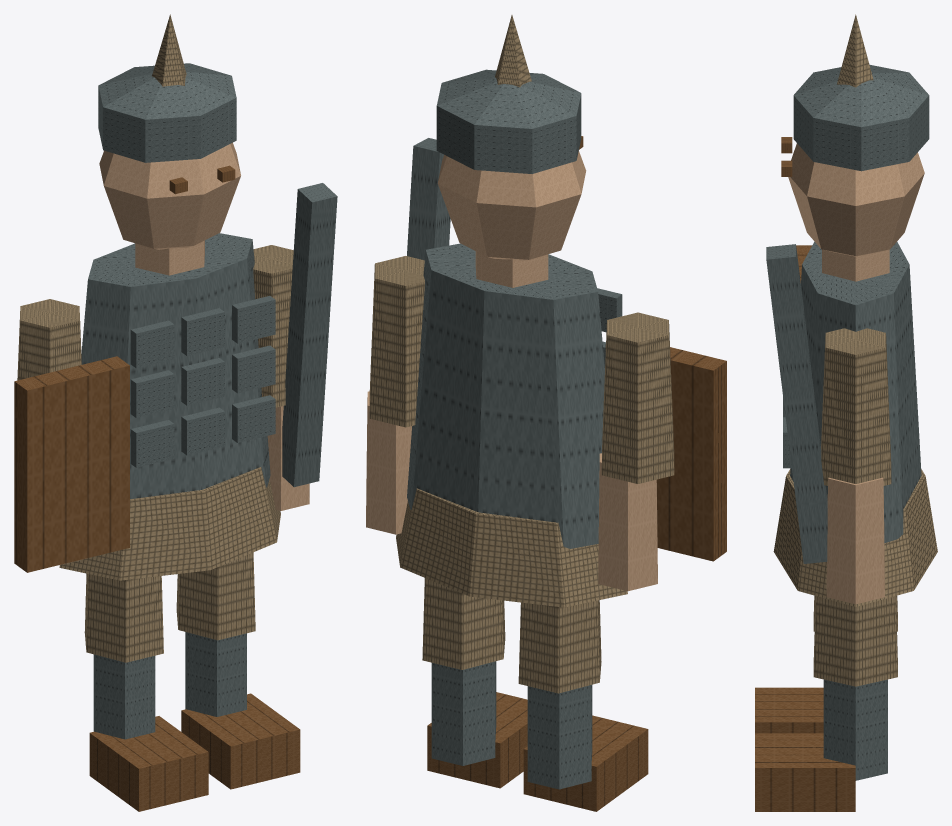
File: unit-SWORD-lod0.glb
The picture shows the model from 3 angles, left to right: view 1: azimuth 30°, elevation 25°; view 2: azimuth 150°, elevation 25°; view 3: azimuth 270°, elevation 25°; orthographic projection. The views are drawn at different scales.
Bounding box in the file's own units: 0.198 × 0.448 × 0.098.
Materials: 1 (1 with a texture image).
